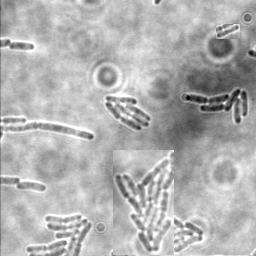Dividing: (1, 123, 95, 142), (8, 41, 35, 52)
Microcolony: (113, 150, 174, 255), (25, 212, 94, 255), (184, 89, 248, 126), (103, 96, 150, 132), (16, 182, 48, 193)
Rod: (216, 24, 240, 39)
